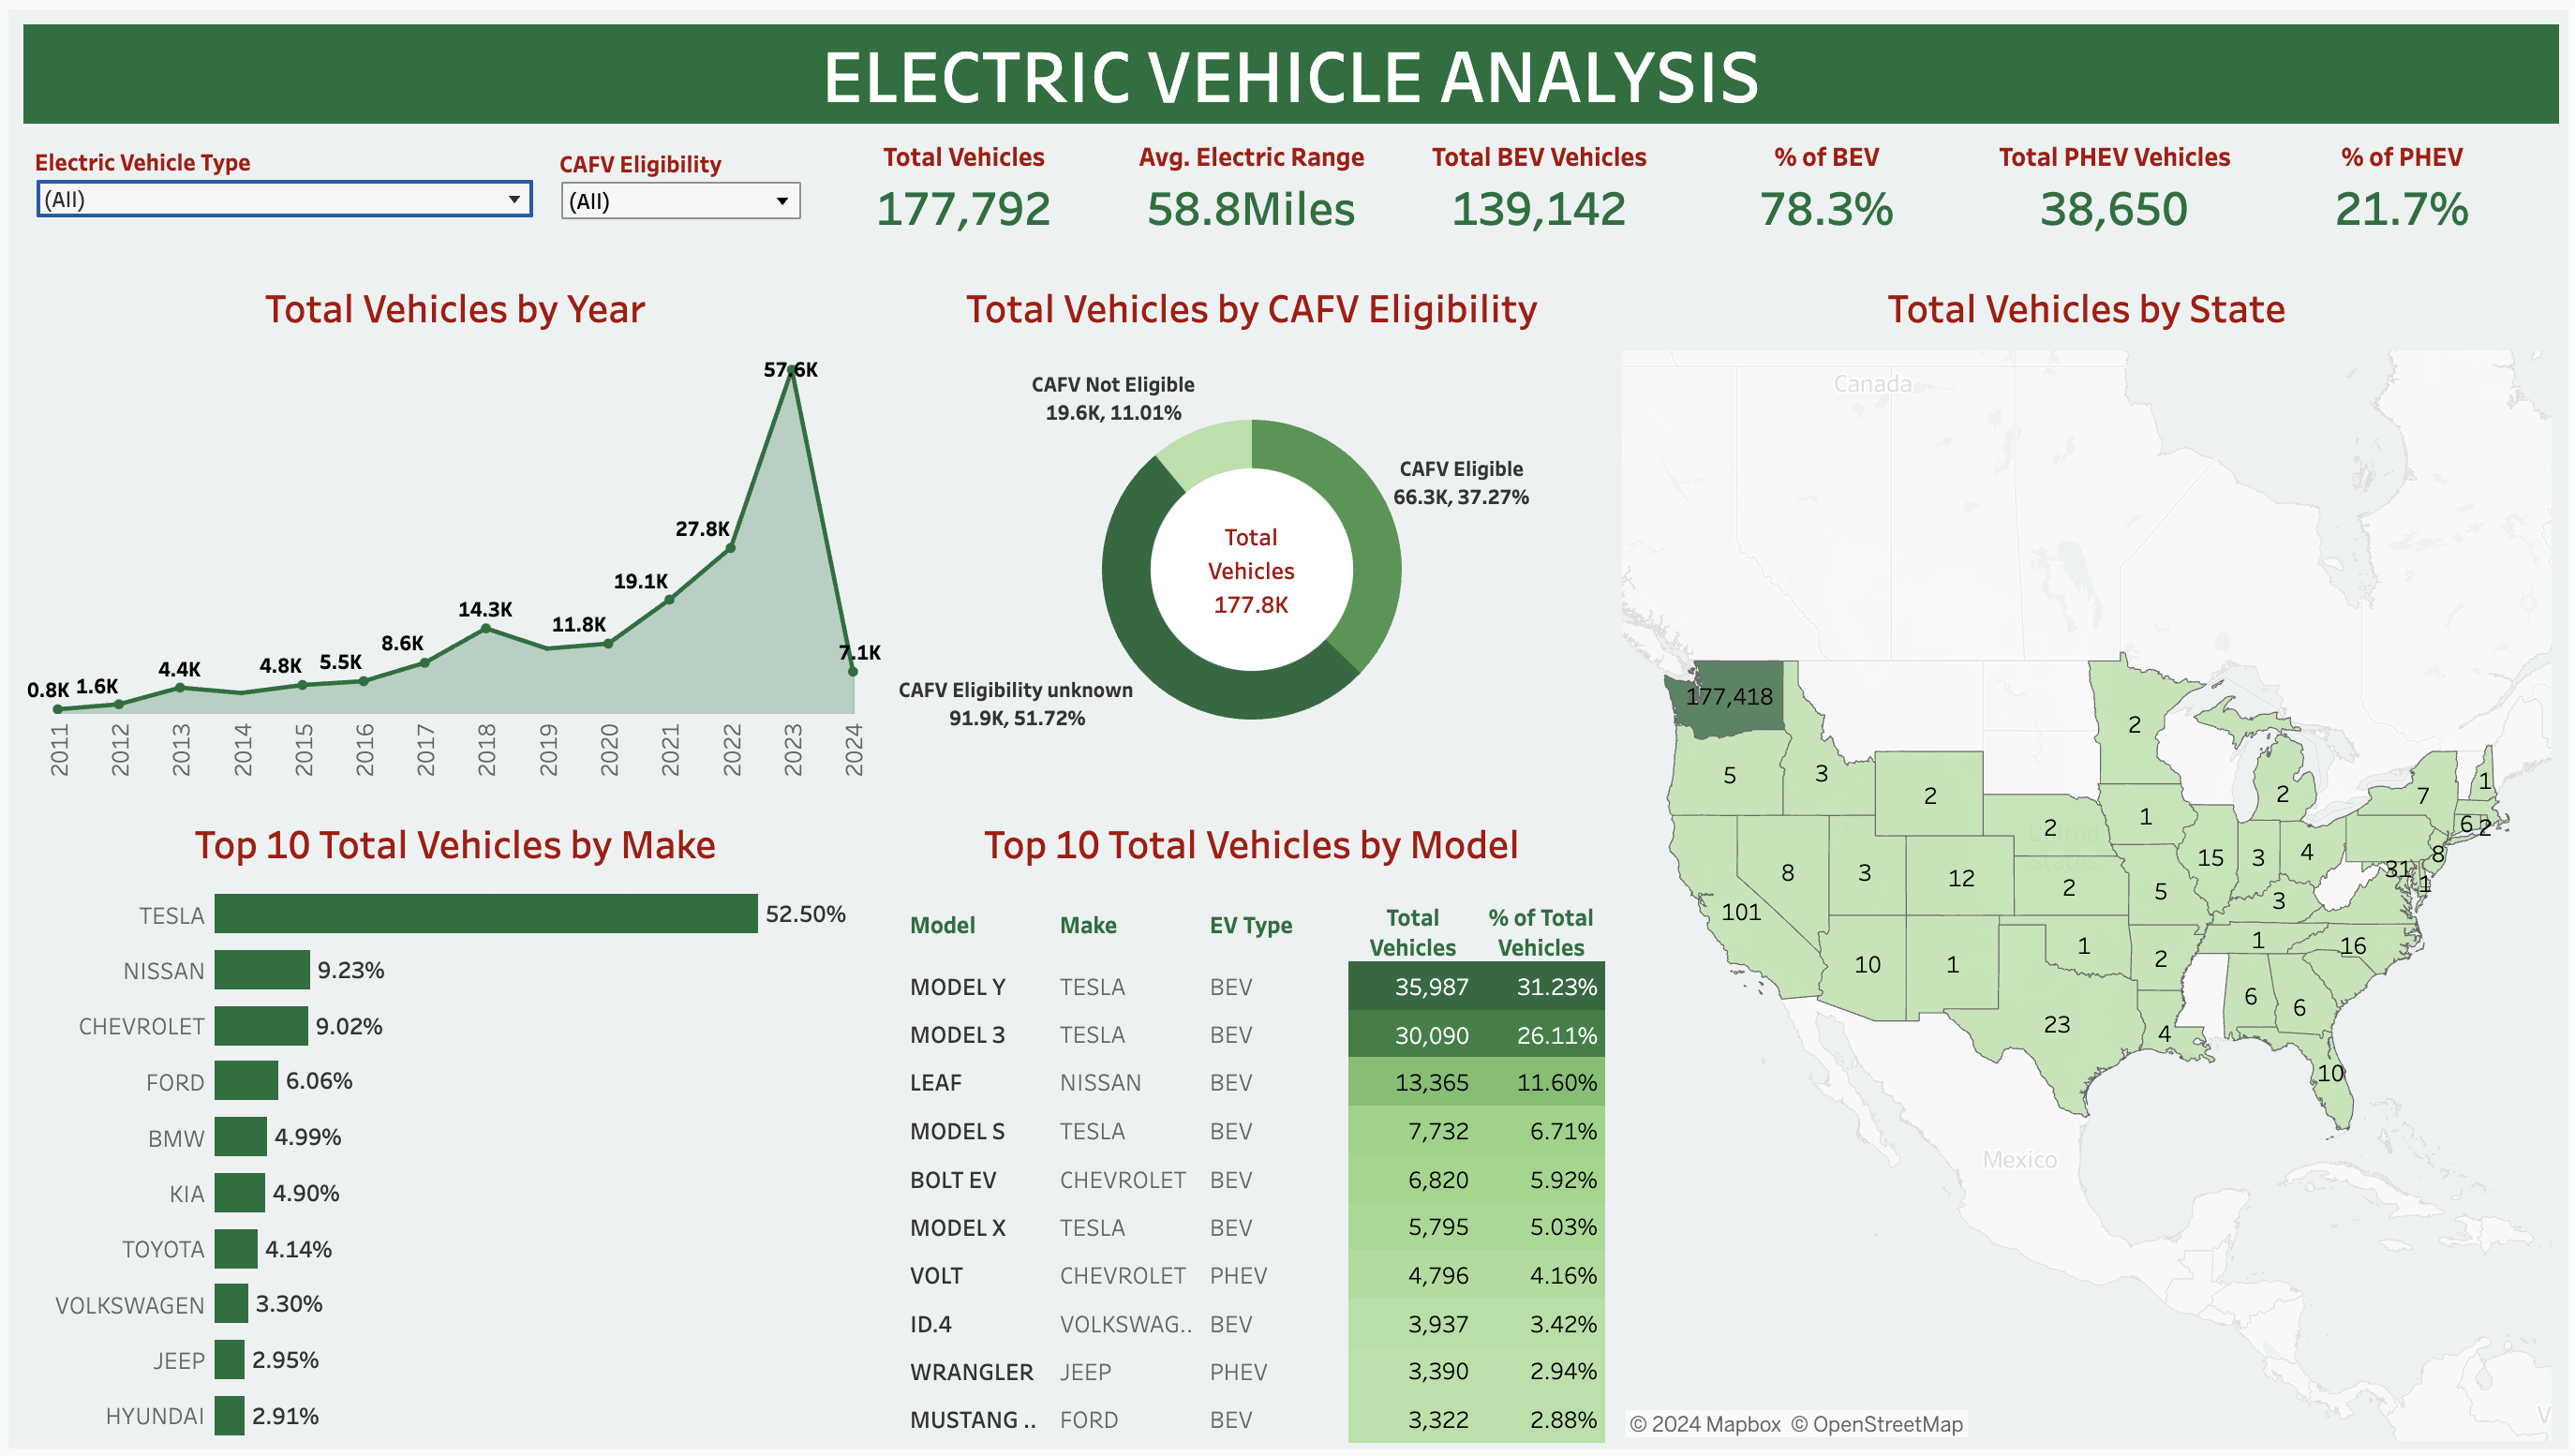

The page's visual inventory and layout, read from the dashboard file:
{"tool":"tableau","page":{"name":"Dashboard","canvas":[1366,768],"ordinal":0},"visuals":[{"type":"text","box":[8,8,1353,53]},{"type":"filter","title":"Total Vehicles by State","param":"[federated.01yb9jq0urwf4x1dqvuw203rcfkv].[none:Electric Vehicle Type:nk]","box":[10,68,275,63]},{"type":"worksheet","title":"KPIs","mark":"Automatic","box":[433,68,921,63]},{"type":"filter","title":"Total Vehicles by State","param":"[federated.01yb9jq0urwf4x1dqvuw203rcfkv].[none:Calculation_874261317775134730:nk","box":[290,69,138,63]},{"type":"worksheet","title":"Total Vehicles by Year","mark":"Area","rows":["Calculation_874261317697228800","Calculation_874261317697228800"],"cols":["Model Year"],"box":[10,139,457,277]},{"type":"worksheet","title":"Total Vehicles by CAFV Eligibility","mark":"Pie","rows":["Calculation_874261317770207239","Calculation_874261317770227721"],"box":[475,139,377,277]},{"type":"worksheet","title":"Total Vehicles by State","mark":"Multipolygon","box":[861,139,496,625]},{"type":"worksheet","title":"Top 10 Total Vehicles by Make","mark":"Automatic","rows":["Make"],"cols":["Calculation_874261317697228800"],"box":[10,425,457,340]},{"type":"worksheet","title":"Top 10 Total Vehicles by Model","mark":"Square","rows":["Model","Make","Calculation_874261317777588235"],"box":[475,425,377,340]}]}

Visuals, with their boxes in screenshot pixels (x1, y1, x2, y2), scaled from the page's 1366x768 canvas onto the 2575x1456 screenshot:
text: rect(15, 15, 2566, 115)
"Total Vehicles by State" filter: rect(19, 129, 537, 248)
"KPIs" worksheet: rect(816, 129, 2553, 248)
"Total Vehicles by State" filter: rect(546, 131, 807, 250)
"Total Vehicles by Year" worksheet (Area marks): rect(19, 263, 880, 789)
"Total Vehicles by CAFV Eligibility" worksheet (Pie marks): rect(896, 263, 1606, 789)
"Total Vehicles by State" worksheet (Multipolygon marks): rect(1623, 263, 2558, 1449)
"Top 10 Total Vehicles by Make" worksheet: rect(19, 806, 880, 1450)
"Top 10 Total Vehicles by Model" worksheet (Square marks): rect(896, 806, 1606, 1450)
